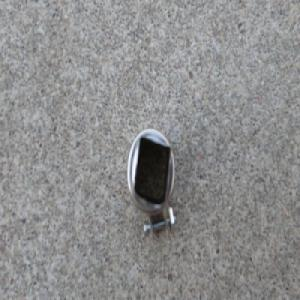MetalPart: (124, 125, 176, 249)
